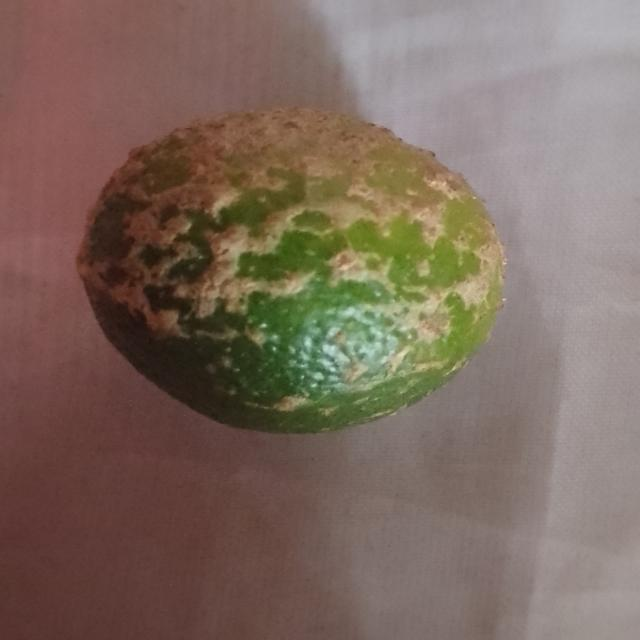scab: (96, 111, 496, 426)
